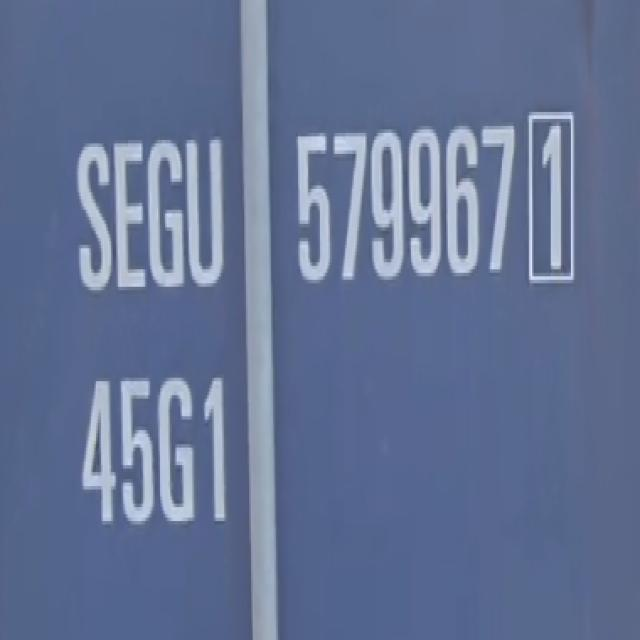dv: (524, 91, 588, 314)
owner: (62, 93, 228, 313)
serial: (291, 100, 519, 309)
size: (67, 352, 242, 564)
